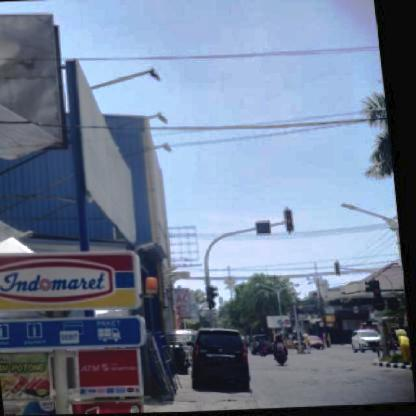Traffic Light -Yellow-: (208, 288, 218, 312), (374, 283, 384, 305), (287, 214, 297, 234)
